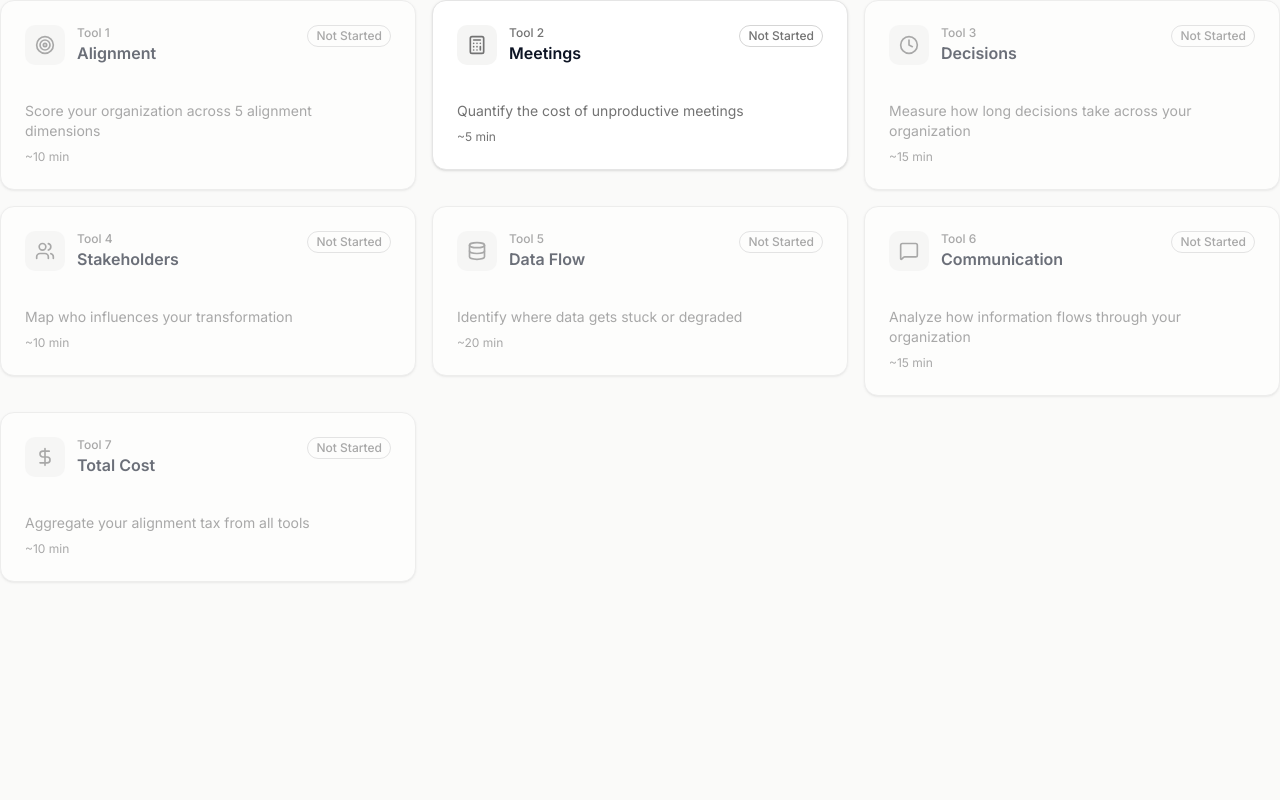
Test: ToolGrid › anonymous user › dialog can be closed
The image size is (1280, 800).
Click the button "Alignment".
click(208, 95)  # box [0,0,416,190]
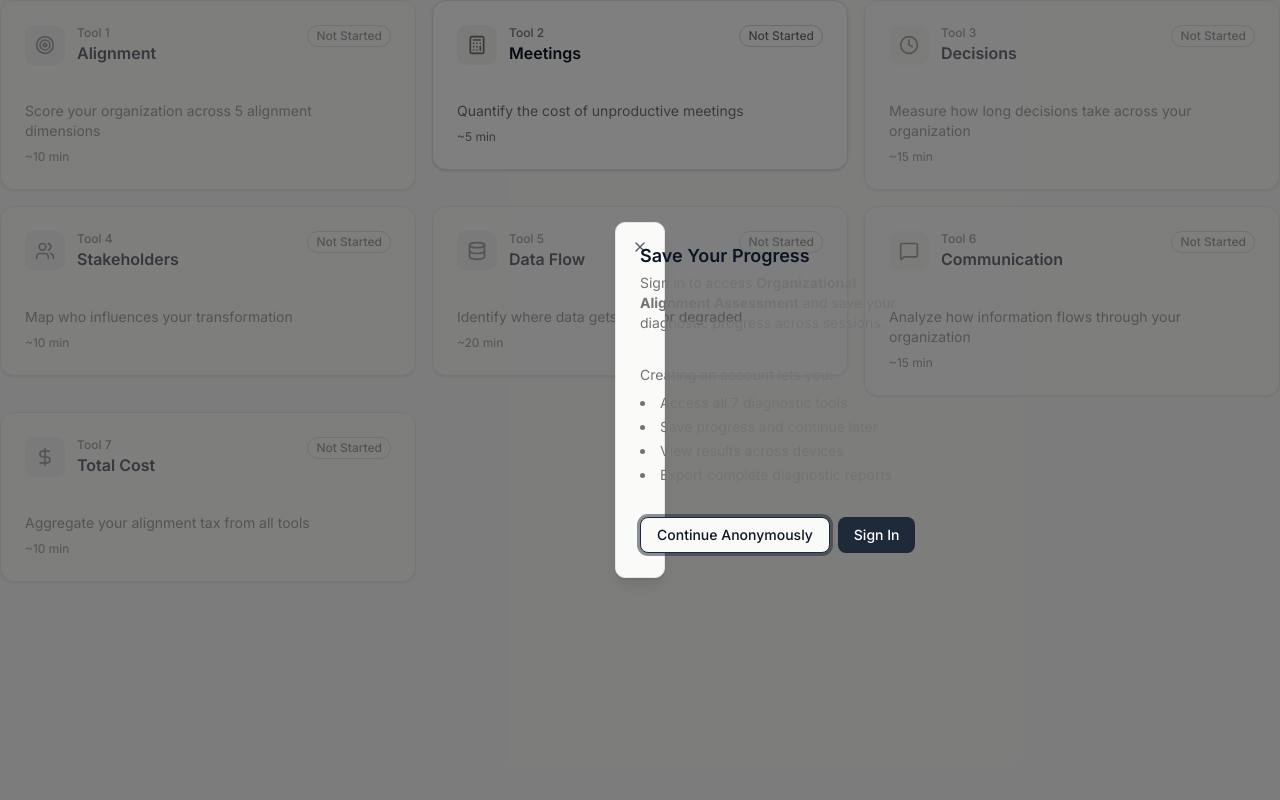
Expected: the dialog is shown, [615,222,665,578]
Click the button "Continue Anonymously".
click(735, 535)  # box [640,517,830,553]
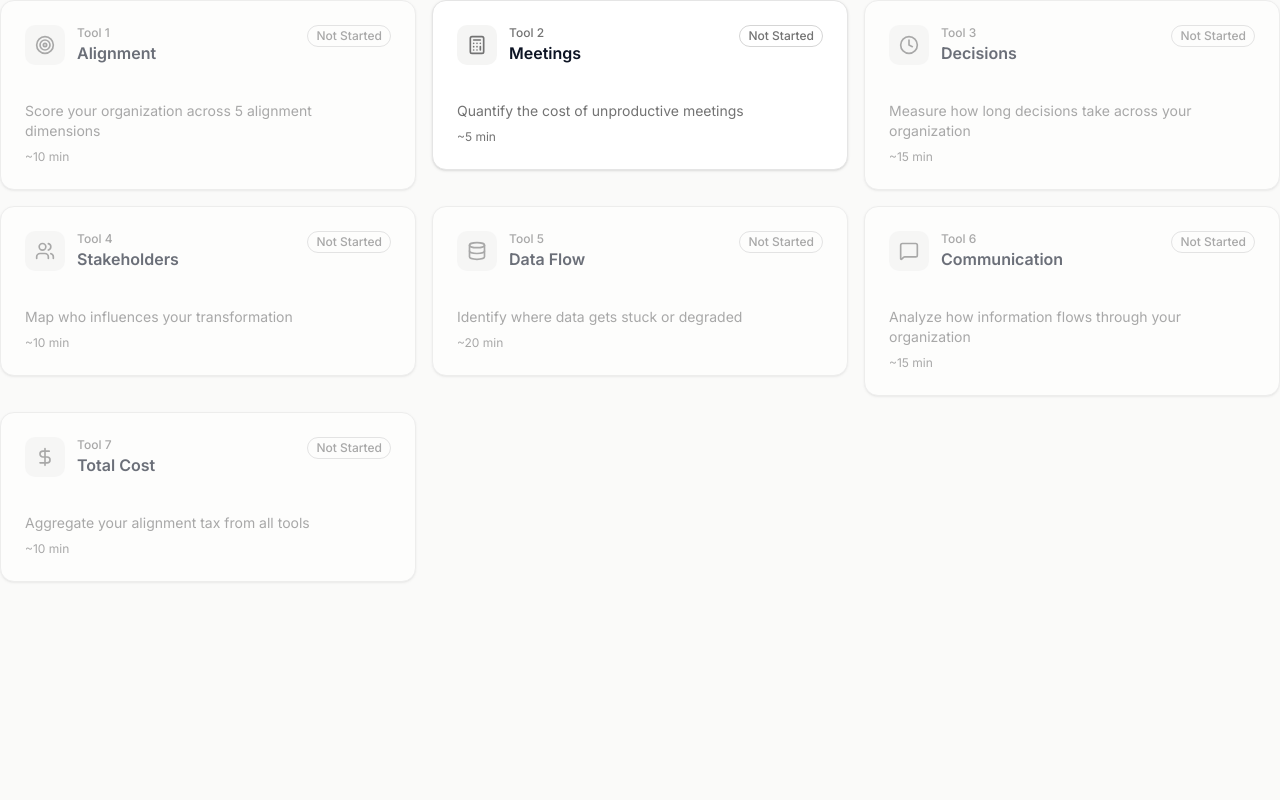
Expected: the dialog is gone
